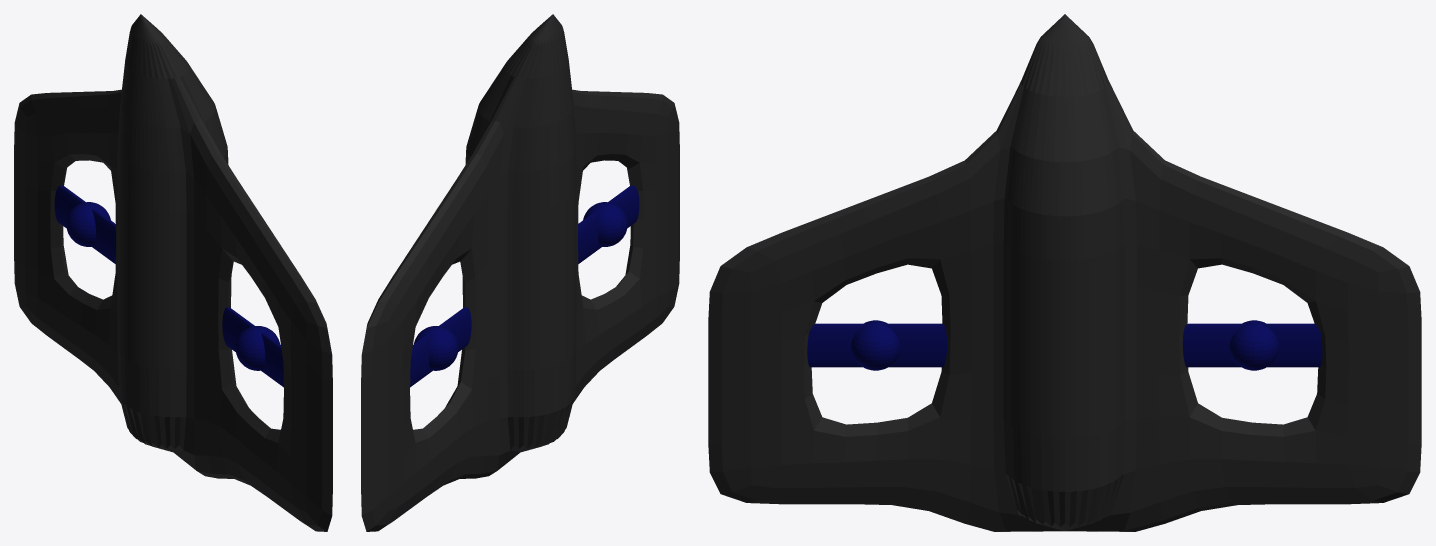
File: drone.fbx
3 views of the same model, side by side, from view 1: azimuth 30°, elevation 25°; view 2: azimuth 150°, elevation 25°; view 3: azimuth 270°, elevation 25° (orthographic). The views are drawn at different scales.
Visible parts, largest first — view 1: Cylinder, Sphere.001, Sphere; view 2: Cylinder, Sphere, Sphere.001; view 3: Cylinder, Sphere.001, Sphere.
Boxes of the visible parts, x1=… form: Cylinder: x1=14, y1=14, x2=332, y2=531; Sphere.001: x1=54, y1=185, x2=115, y2=263; Sphere: x1=222, y1=307, x2=283, y2=387; Cylinder: x1=361, y1=14, x2=679, y2=531; Sphere: x1=578, y1=185, x2=639, y2=263; Sphere.001: x1=410, y1=307, x2=471, y2=387; Cylinder: x1=708, y1=14, x2=1421, y2=531; Sphere.001: x1=1182, y1=320, x2=1322, y2=370; Sphere: x1=807, y1=320, x2=946, y2=370.
Bounding box in the file's own units: 99.36 × 438 × 566.
